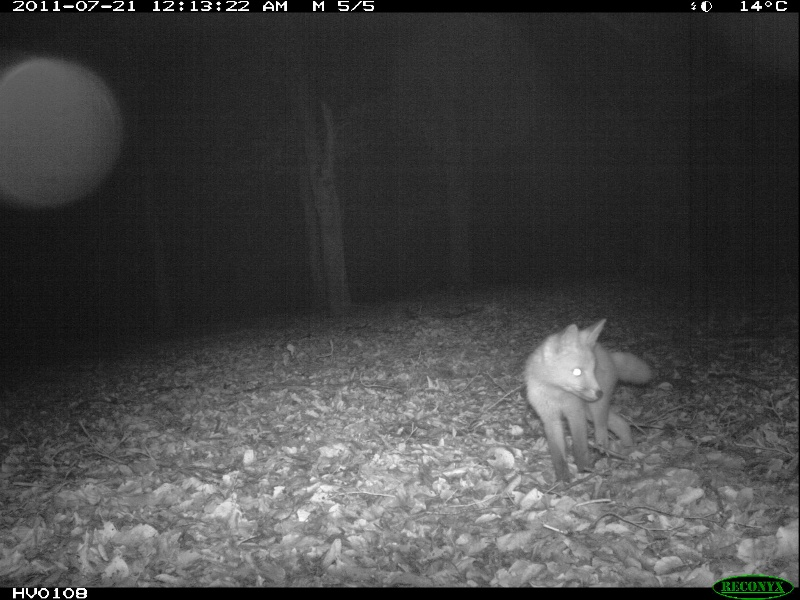fox: (522, 319, 654, 481)
